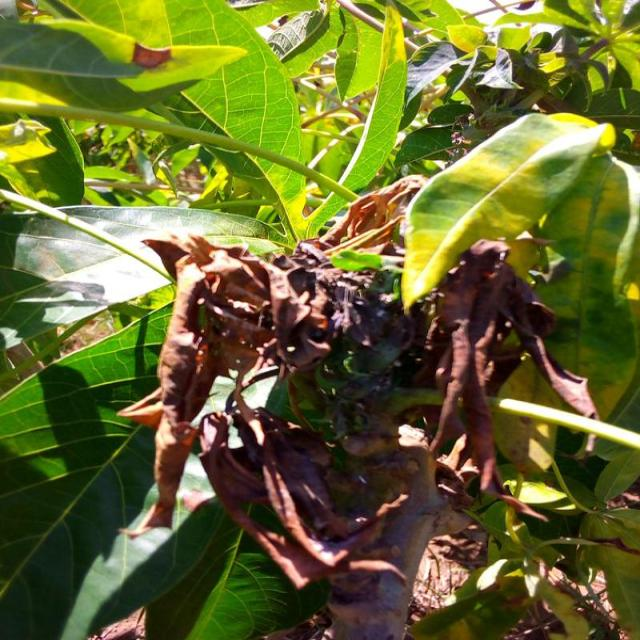cassava leaf: (0, 0, 308, 241), (400, 109, 614, 314)
